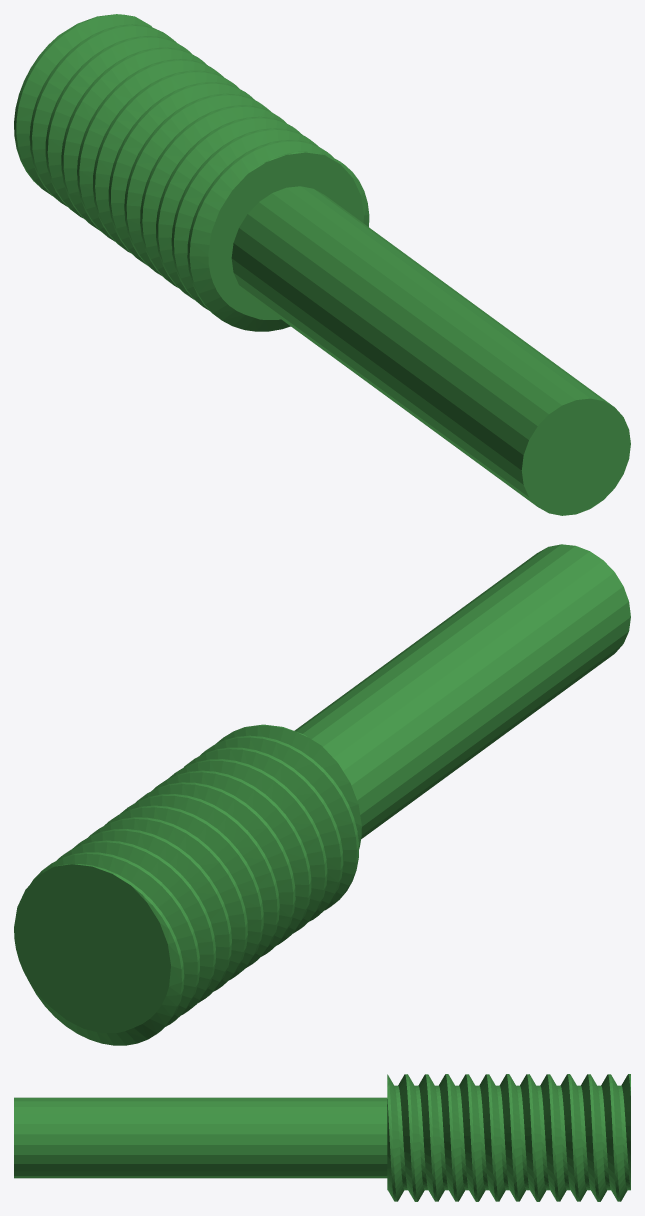
File: Al__a_Corpo1.obj
3 renders of one model, top to bottom at view 1: azimuth 30°, elevation 25°; view 2: azimuth 150°, elevation 25°; view 3: azimuth 270°, elevation 25°, orthographic. The views are drawn at different scales.
Size of the model in its own units: 0.00786 by 0.00787 by 0.038.
